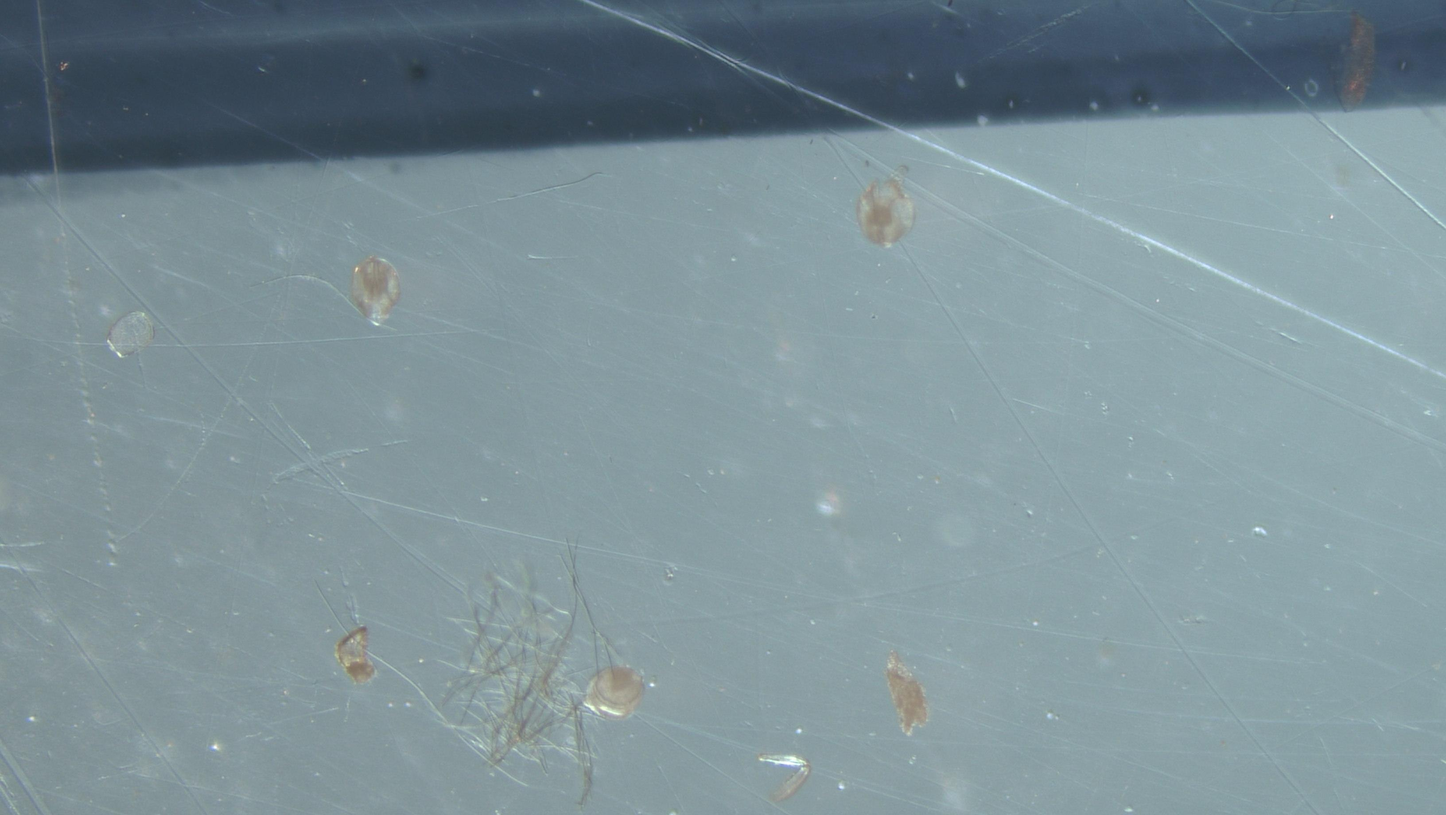dead: (106, 312, 154, 358)
live: (856, 167, 914, 247), (582, 666, 646, 720), (351, 256, 399, 325)
